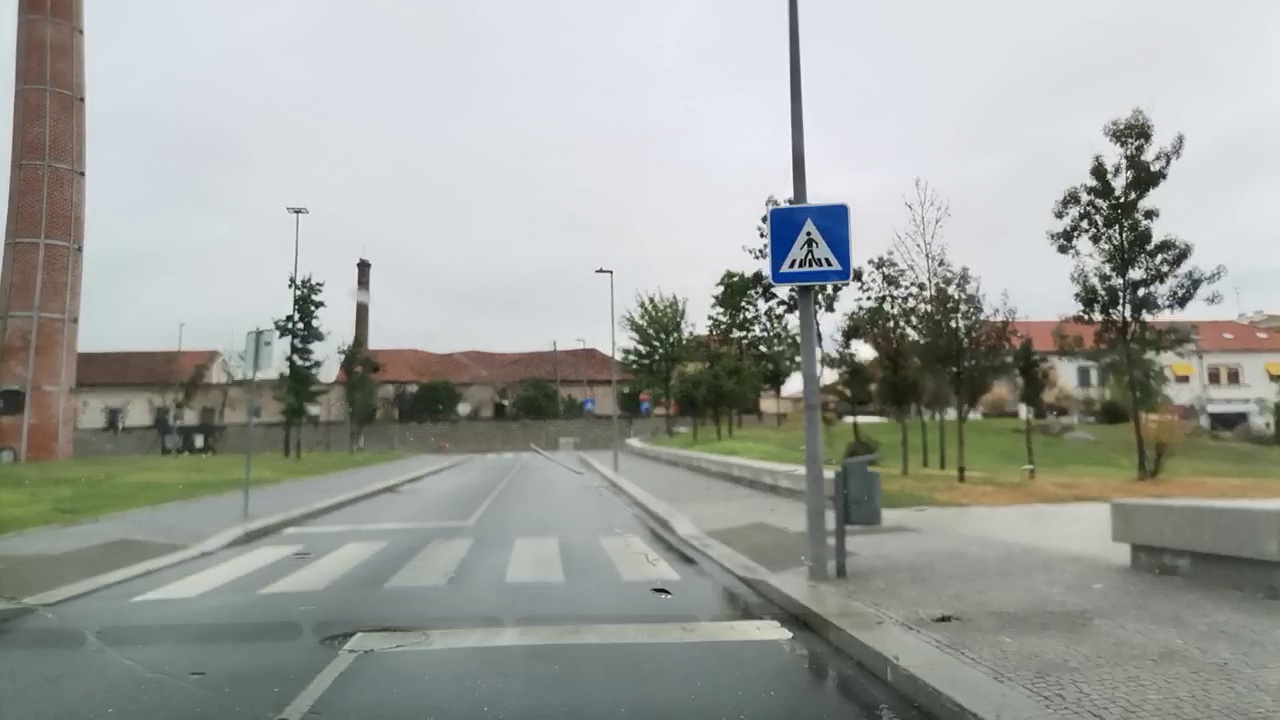Stairs: (134, 531, 684, 605)
